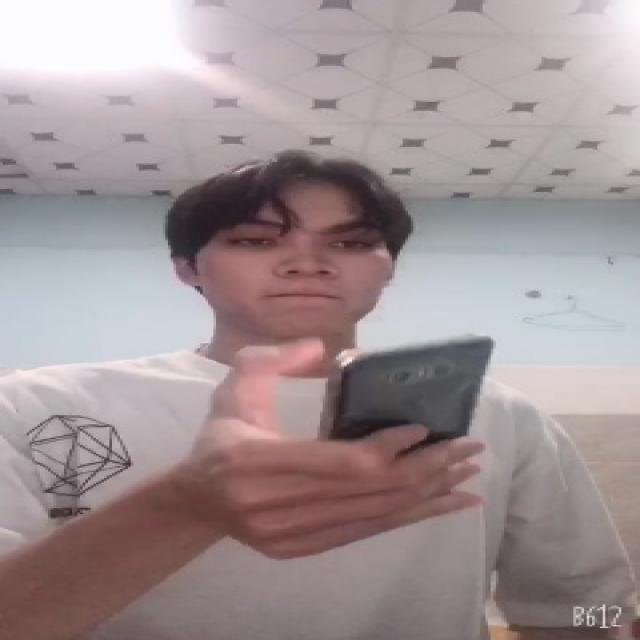Phone: (318, 331, 497, 495)
